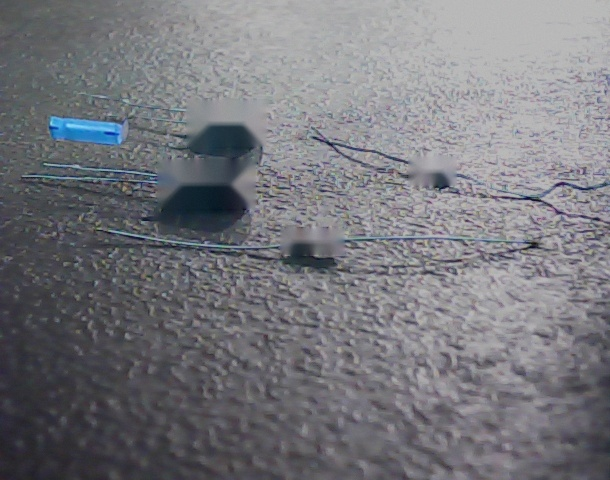capacitor: (48, 115, 129, 146)
